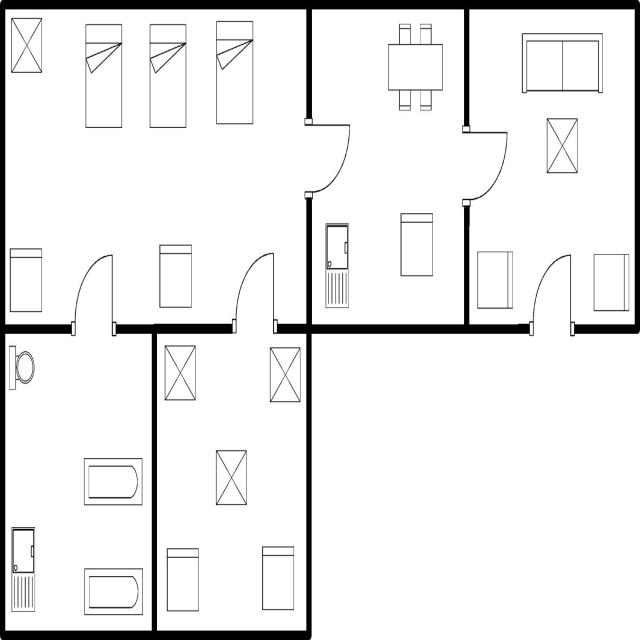bed: (212, 14, 256, 132), (82, 18, 125, 136), (146, 16, 188, 136)
coffee_table: (542, 111, 581, 180), (162, 338, 199, 407), (212, 444, 250, 509), (9, 13, 44, 83), (266, 341, 302, 408)
dining_table: (383, 18, 446, 119)
large_sink: (7, 338, 36, 398)
large_sofa: (519, 26, 606, 100)
sink: (8, 518, 38, 616), (323, 218, 350, 314)
small_sofa: (397, 207, 438, 286), (156, 236, 196, 315), (588, 247, 632, 316), (474, 247, 516, 318), (164, 542, 202, 620), (258, 540, 296, 616), (7, 242, 45, 316)
tub: (79, 450, 145, 512), (80, 562, 146, 619)
